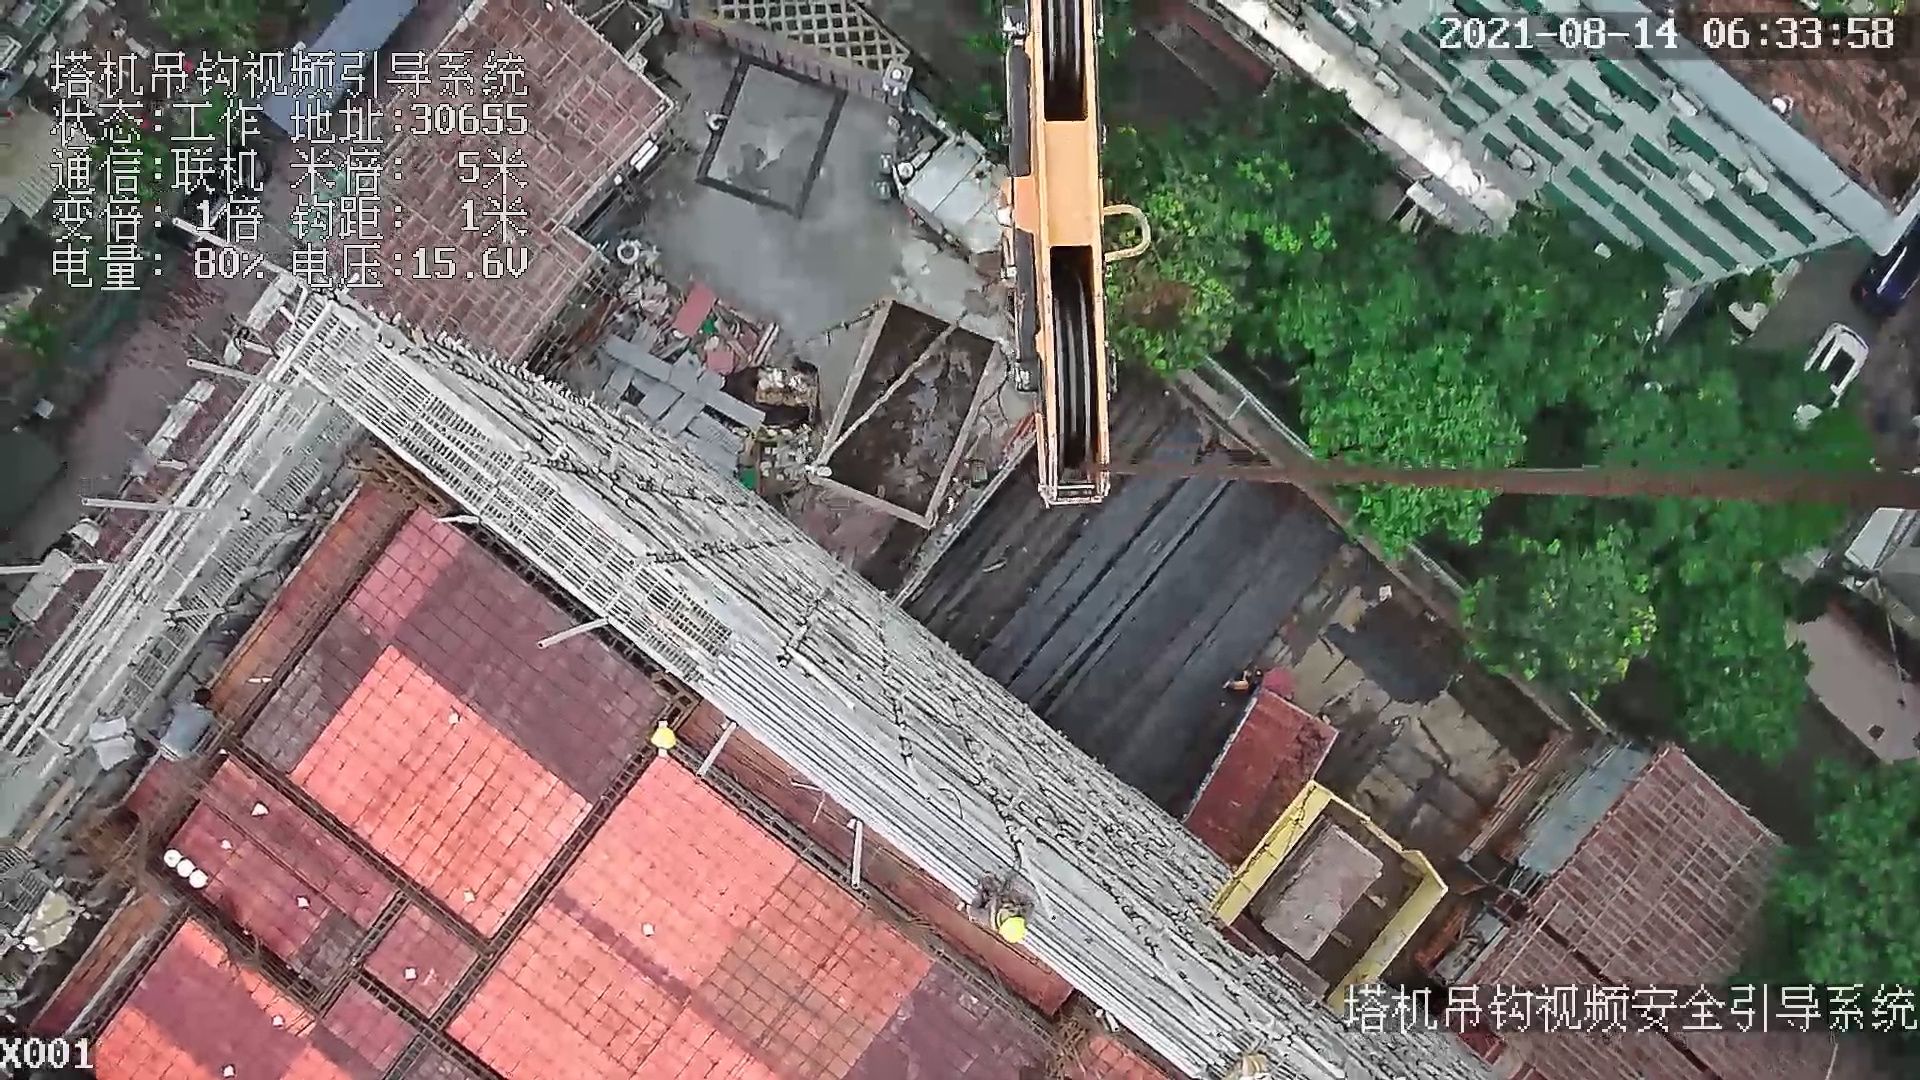helmet: (996, 914, 1029, 943), (647, 725, 683, 749)
hook: (995, 6, 1151, 506)
hopper: (823, 290, 1000, 544)
person: (950, 842, 1044, 942)
rebar: (968, 441, 1299, 726)
